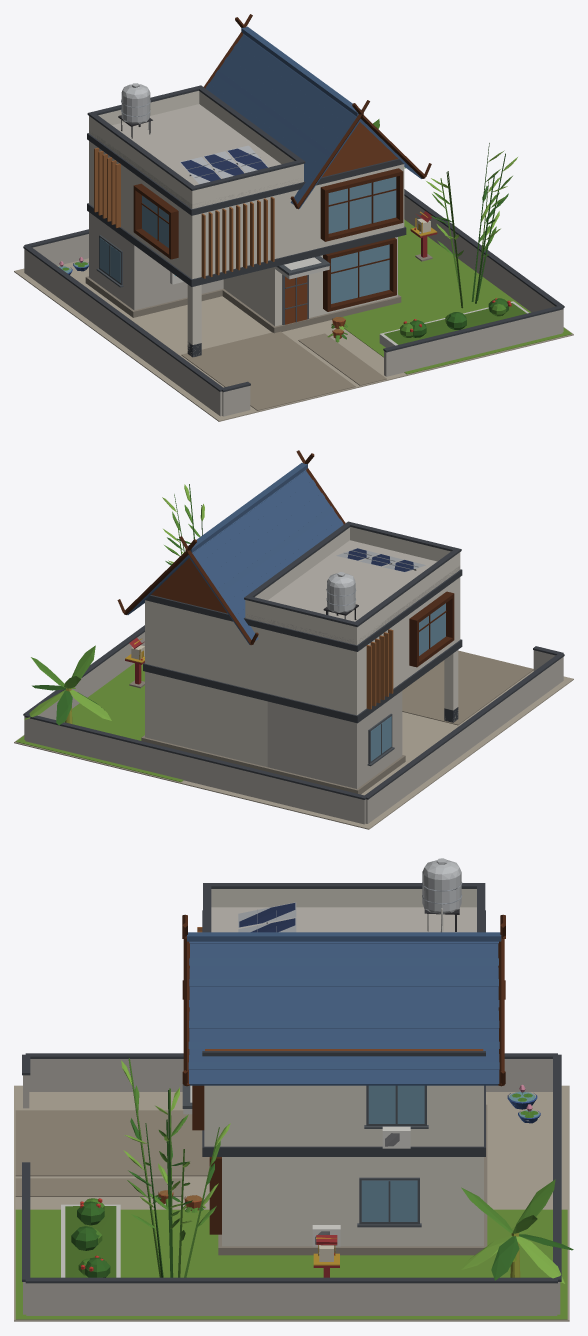
The model's file is home_1.glb.
The picture shows the model from 3 angles, top to bottom: view 1: azimuth 30°, elevation 25°; view 2: azimuth 150°, elevation 25°; view 3: azimuth 270°, elevation 25°; orthographic projection. The views are drawn at different scales.
Parts seen in each view (by area): view 1: body; view 2: body; view 3: body.
Part boxes in pixels (x1,y1,x2,y2): body: [14, 14, 573, 421]; body: [14, 450, 573, 829]; body: [14, 858, 573, 1321].
Bounding box in the file's own units: 16.35 × 9.92 × 16.03.
